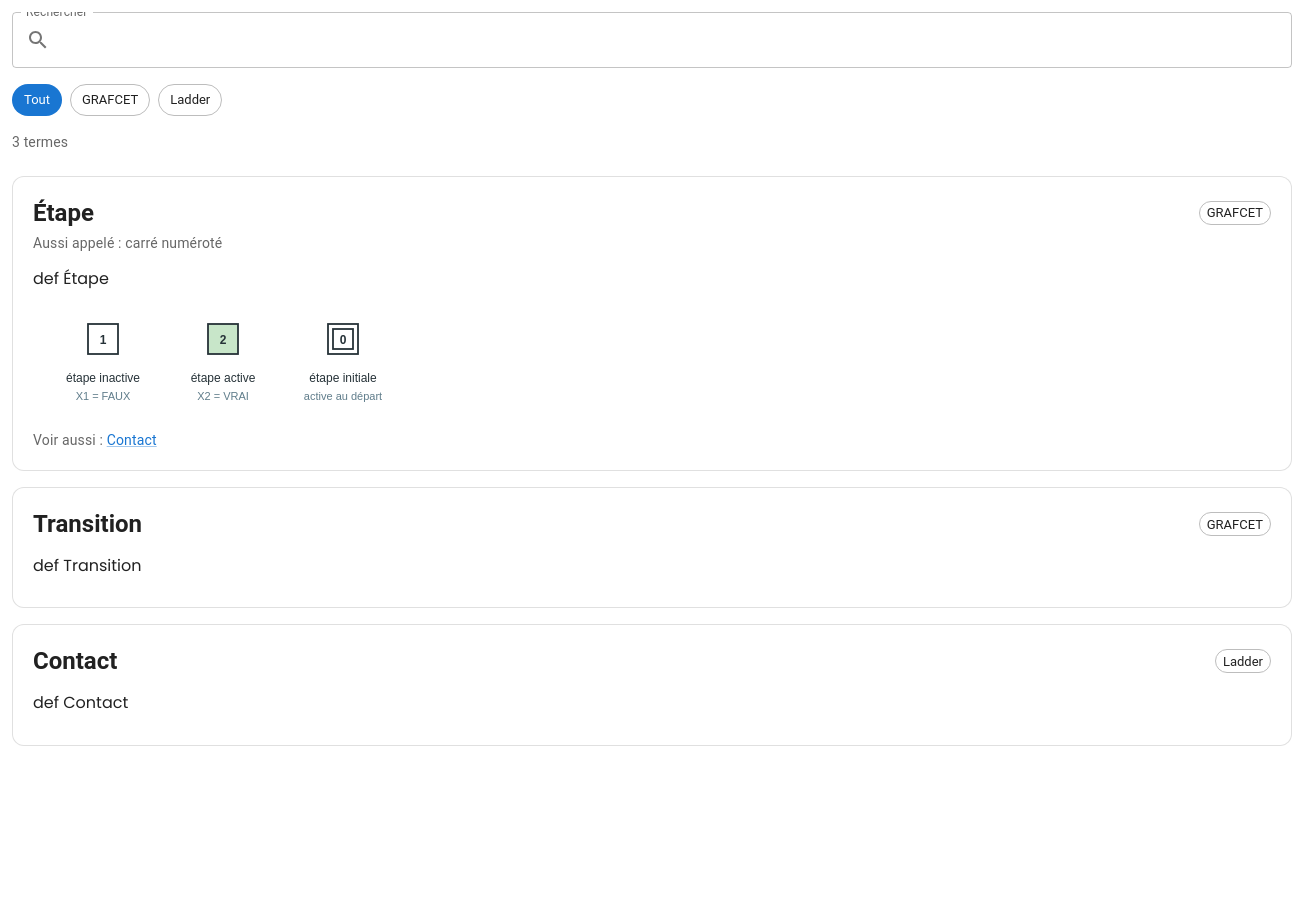
Test: GlossaryBrowser › filtre par notation avec les puces, combinable à la recherche
Click the button "Ladder". click: [190, 100]
box: [158,84,222,116]
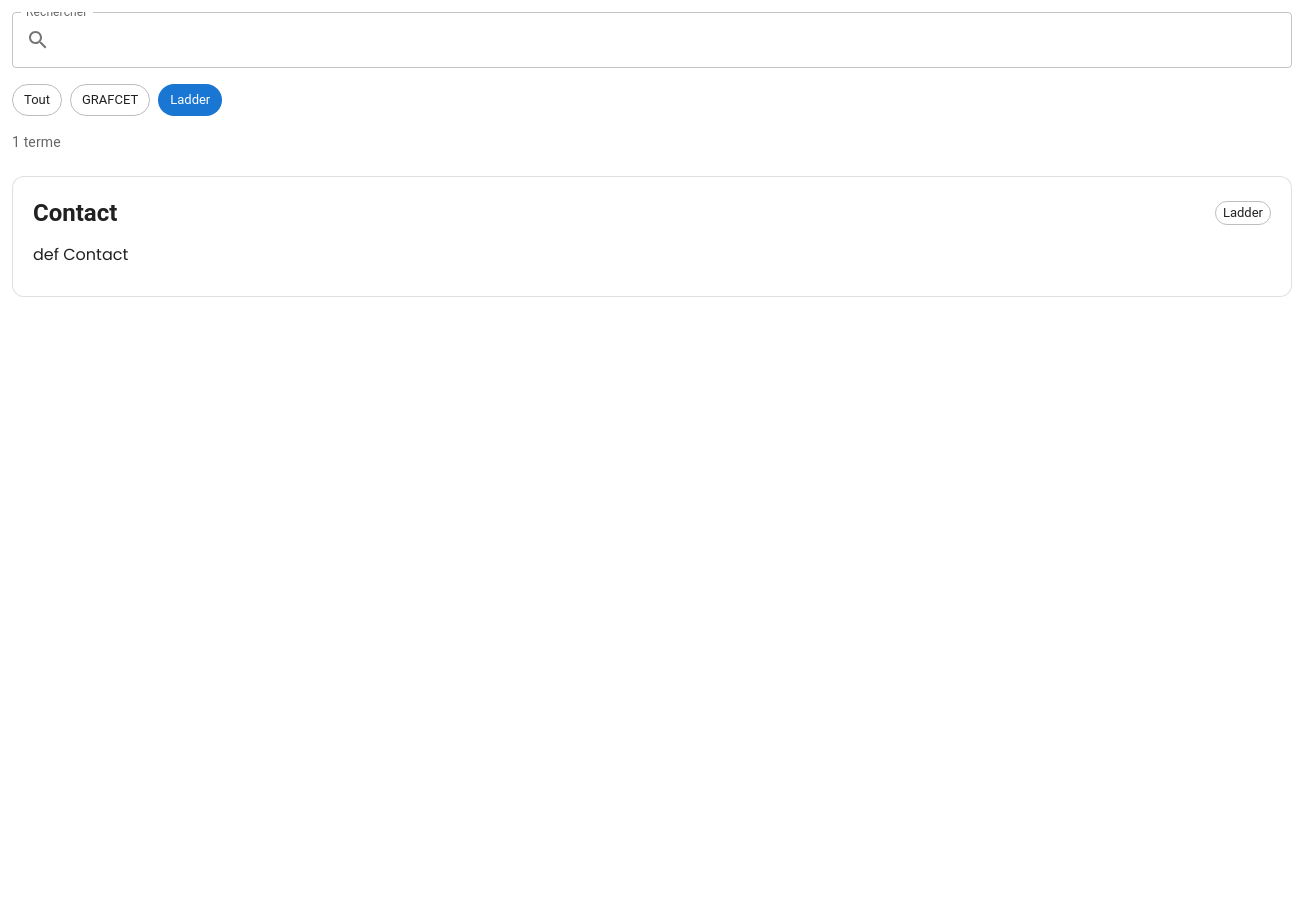
Expected: the heading "Contact" is shown, [33,197,117,229]
Expected: the heading "Étape" is gone
Type "etape" into the search field labelled "Rechercher". click: [675, 40]
box: [58,12,1292,68]
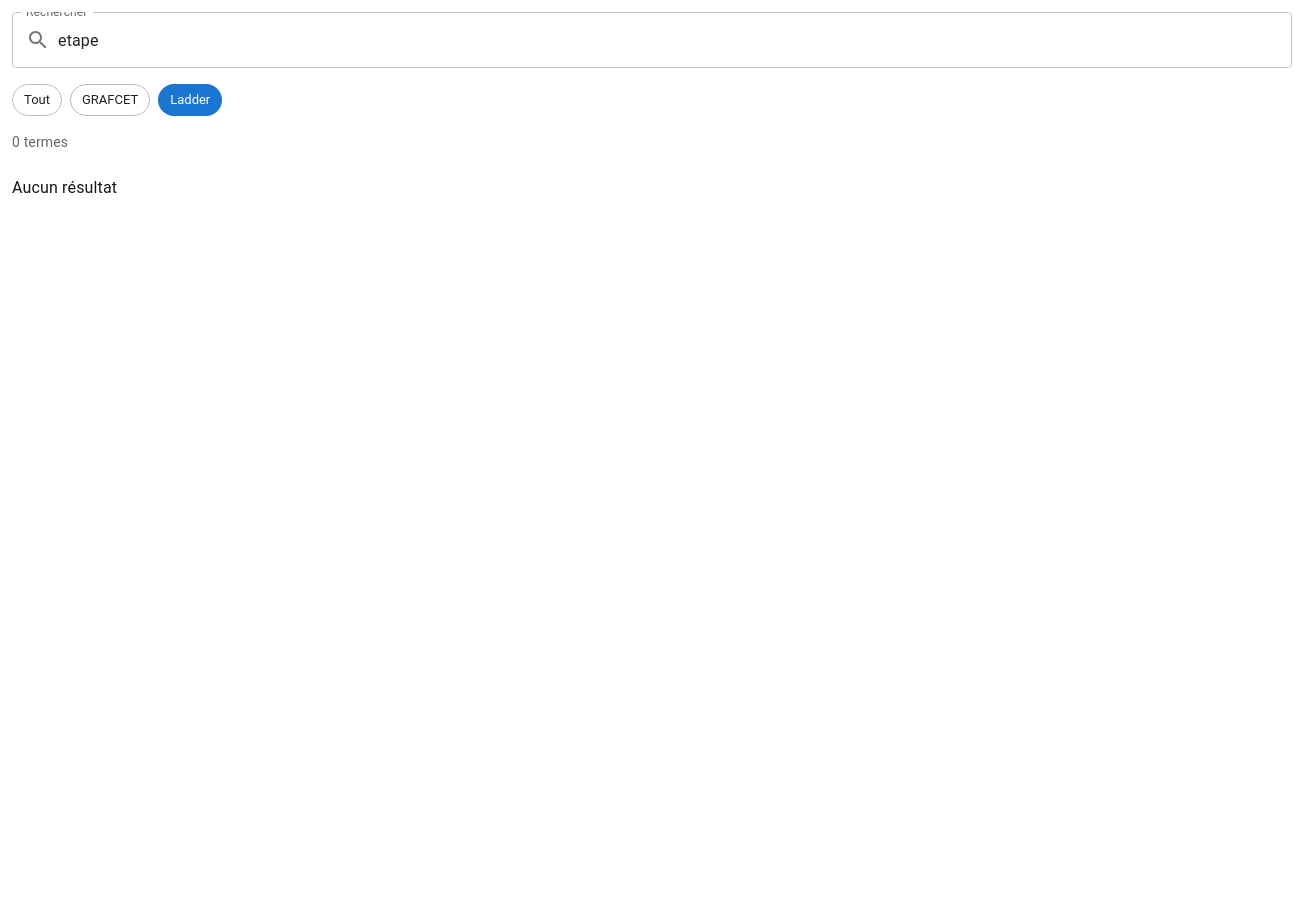
Expected: the text "Aucun résultat" is shown, [12,178,117,197]
Click the button "Tout". click: [37, 100]
box: [12,84,62,116]
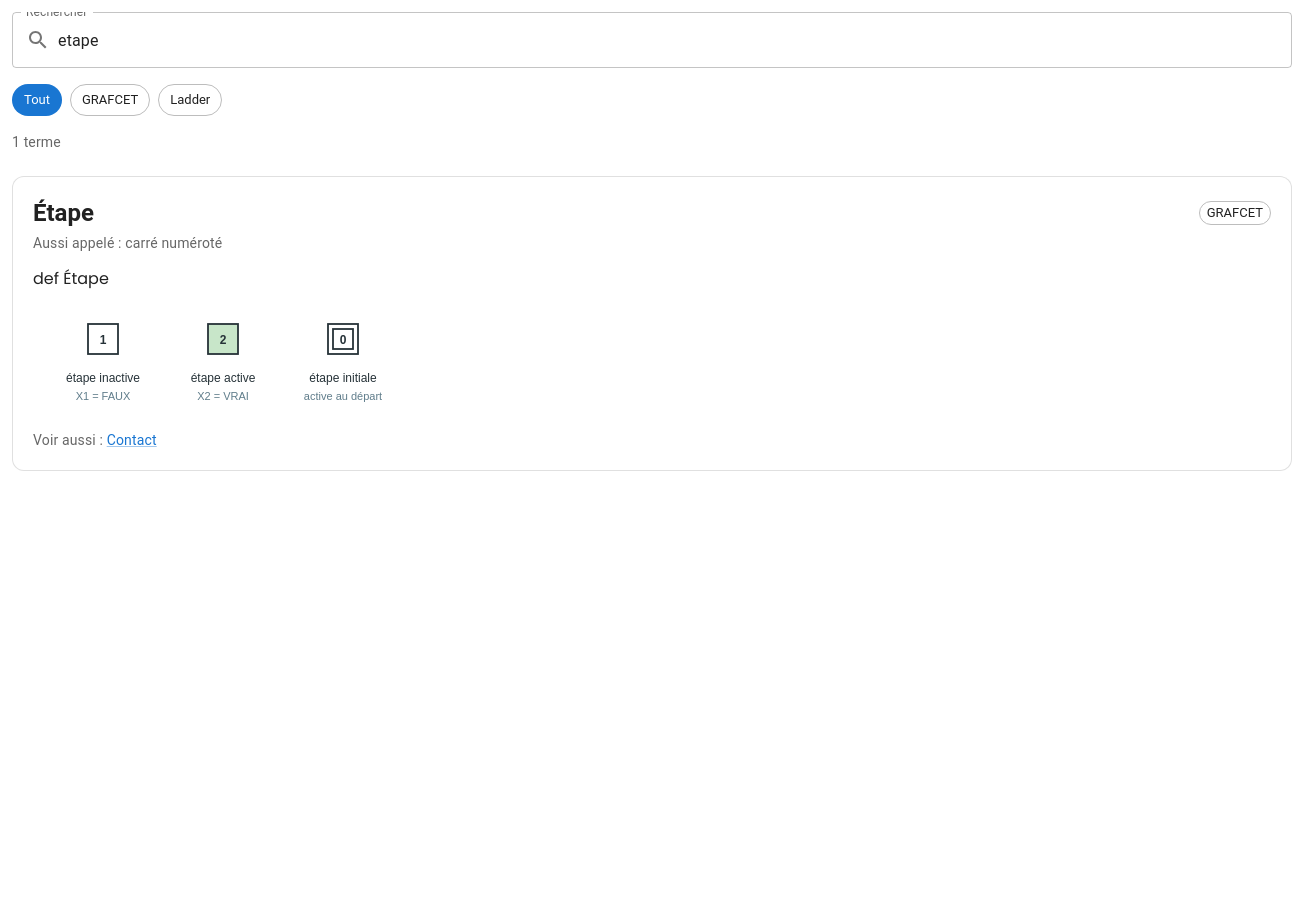
Expected: the heading "Étape" is shown, [33,197,94,229]
